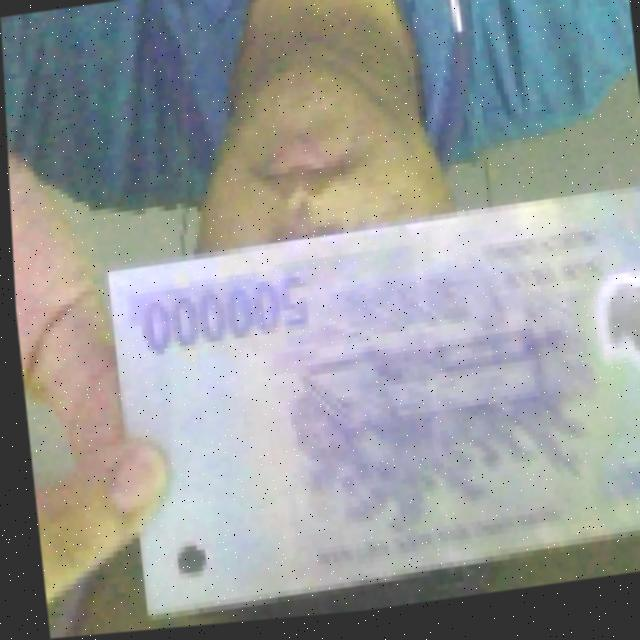500 000 VND: (93, 190, 640, 634)
